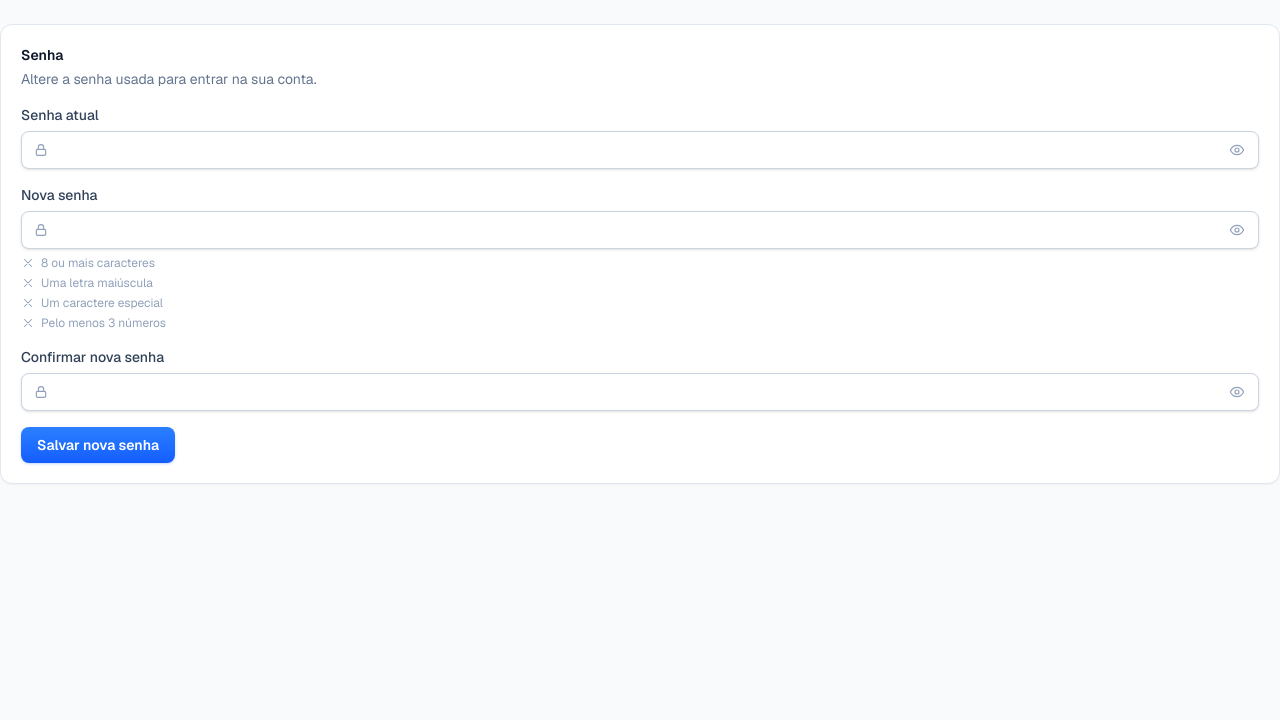
Test: ChangePasswordCard › senha atual incorreta mostra o erro do backend
This screenshot has width=1280, height=720.
In the password field labelled "Senha atual": [640, 150] box [21,131,1259,169], type "errada"
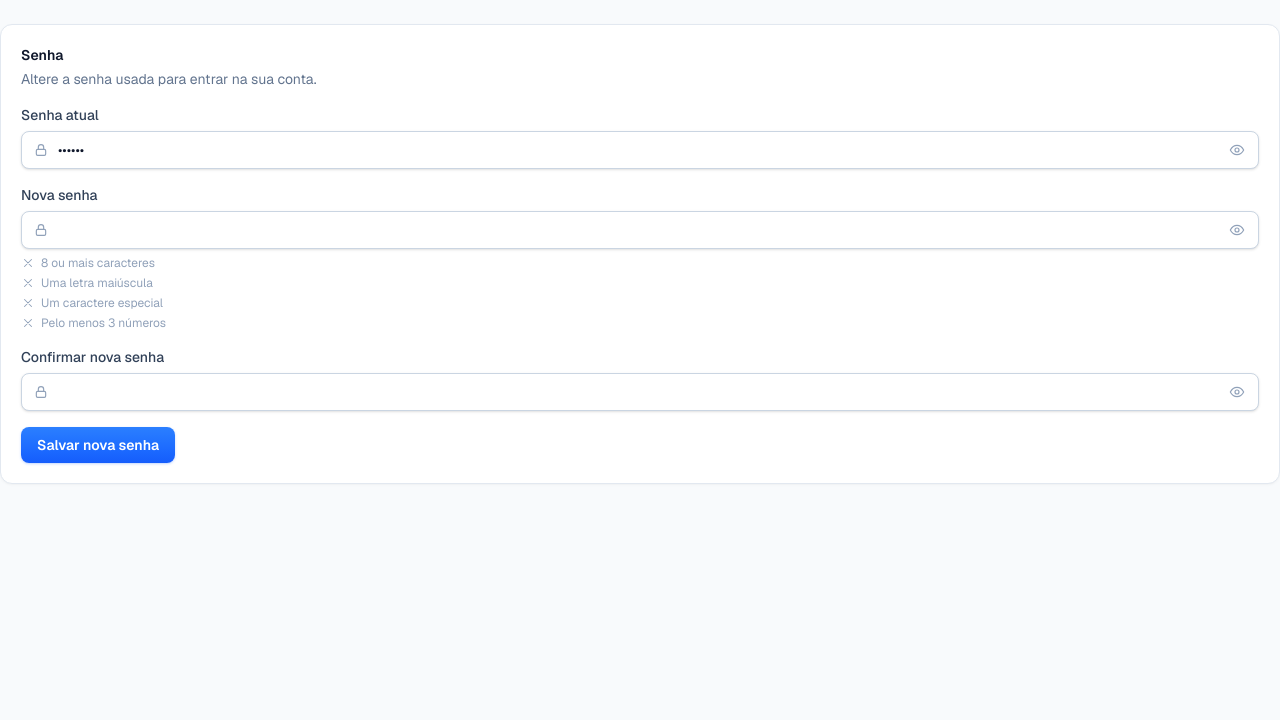
In the password field labelled "Nova senha": [640, 230] box [21,211,1259,249], type "SenhaNova123!"
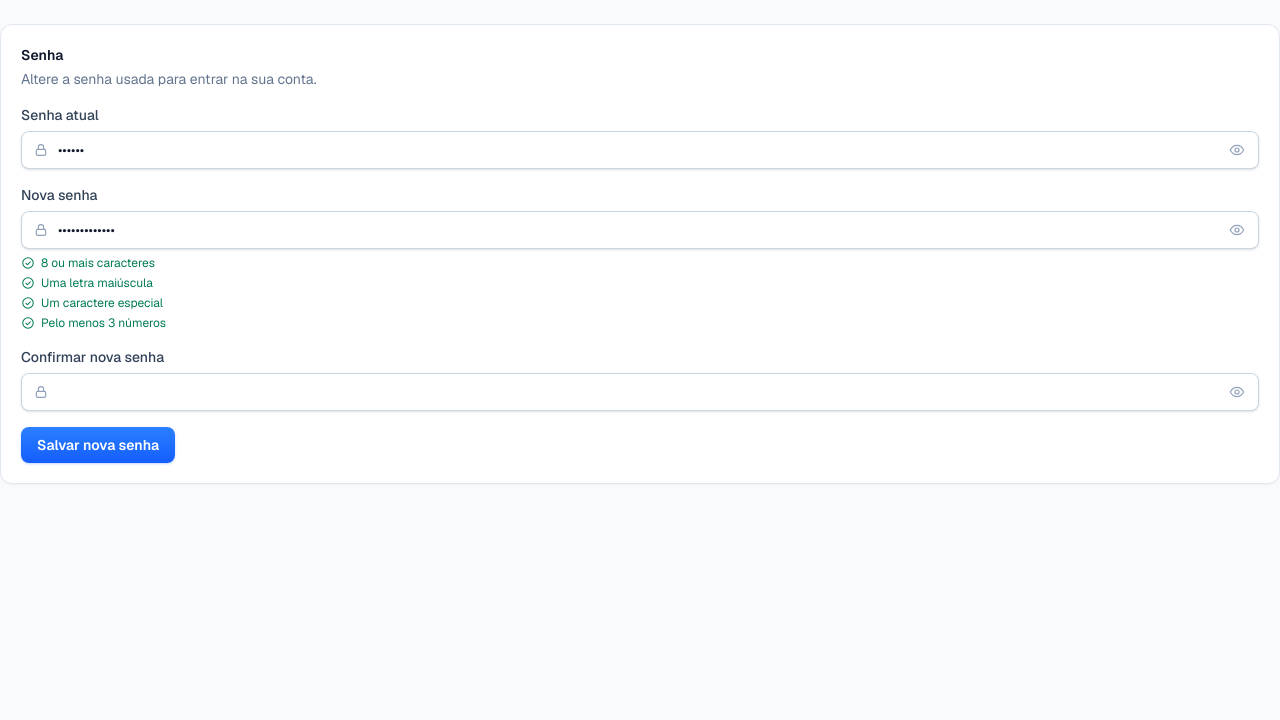
In the password field labelled "Confirmar nova senha": [640, 392] box [21,373,1259,411], type "SenhaNova123!"
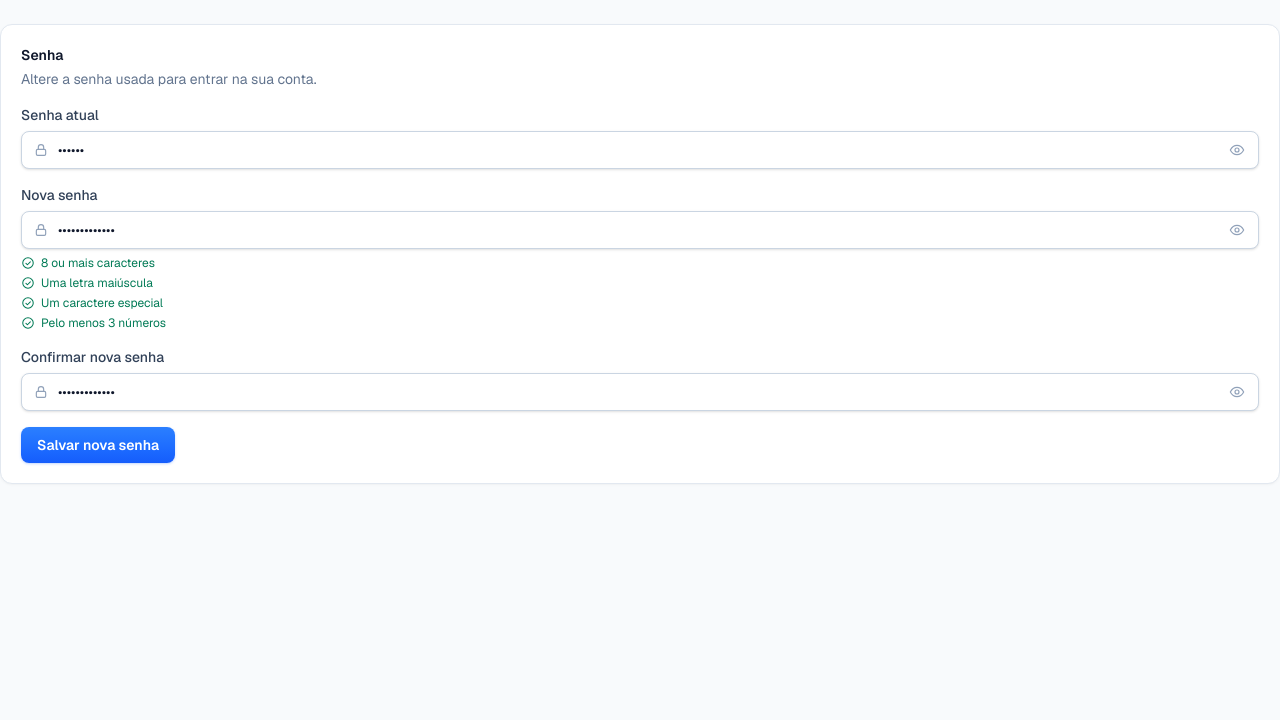
Click the button "Salvar nova senha": [98, 445] box [21,427,175,463]
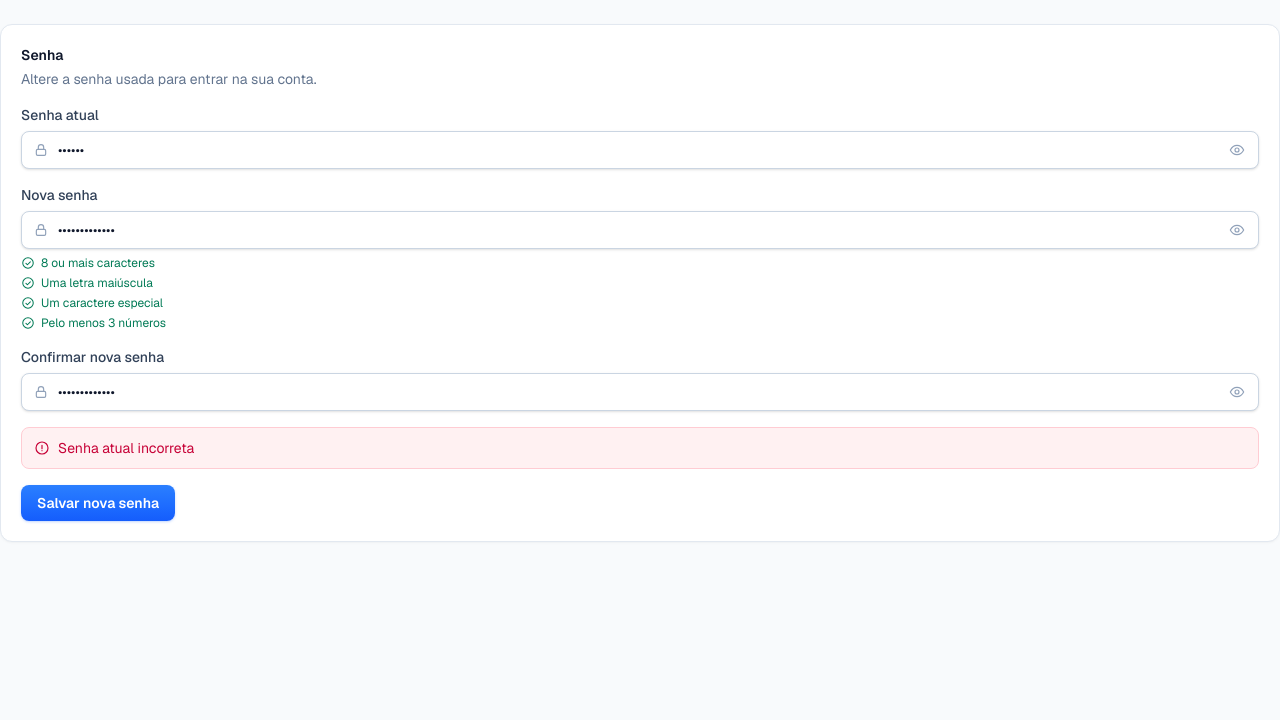
Expected: the text "Senha atual incorreta" is shown, [58,438,194,458]
